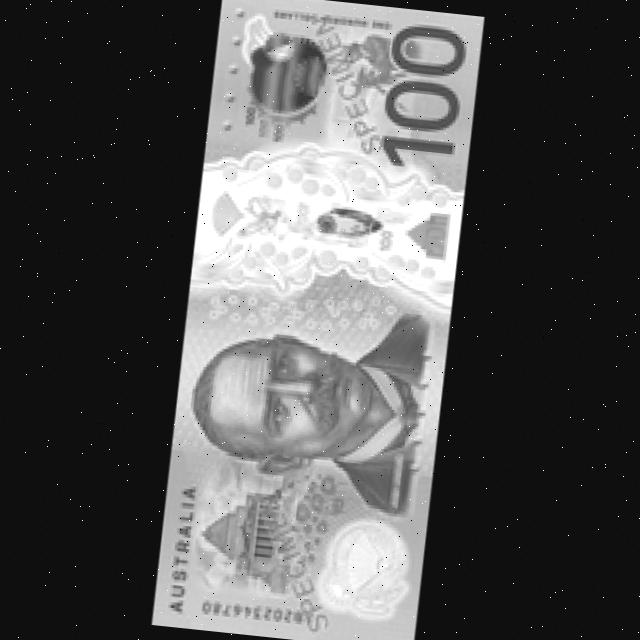banknote: (146, 0, 483, 640)
